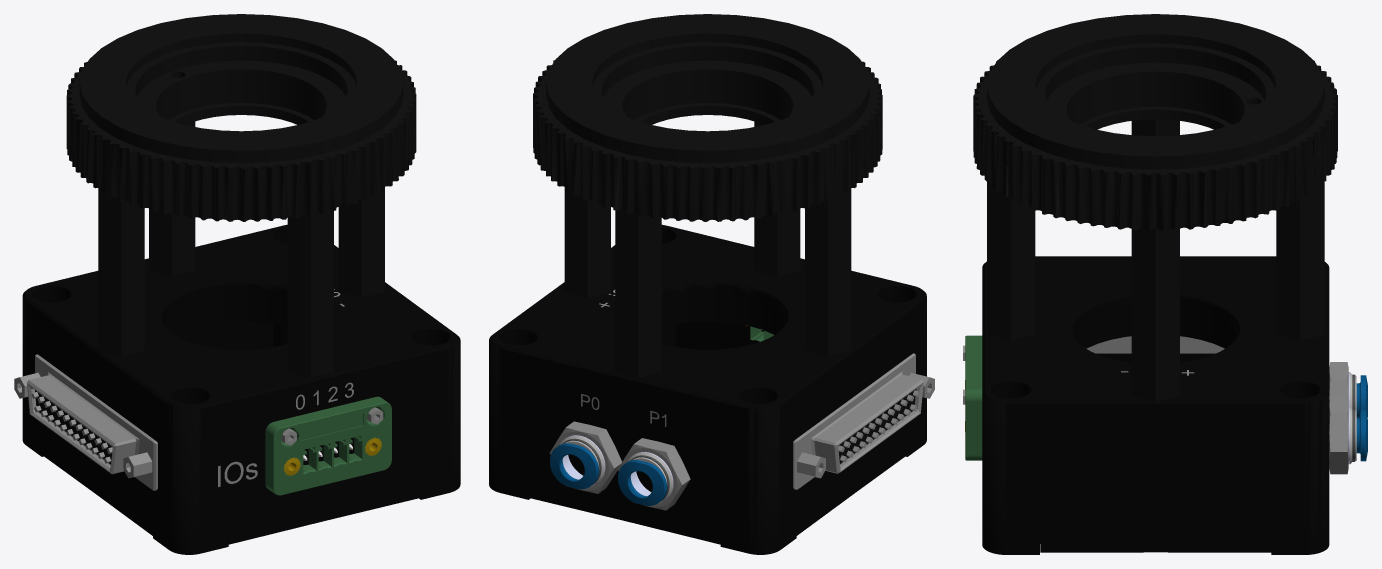
The picture shows the model from 3 angles, left to right: view 1: azimuth 30°, elevation 25°; view 2: azimuth 150°, elevation 25°; view 3: azimuth 270°, elevation 25°; orthographic projection. The views are drawn at different scales.
Visible parts, largest first — view 1: thrust_bearing_50mm_70mm_3mm v3:1, Cube, 15CDGV-3.81-04P-14-00AH v1:1.002; view 2: thrust_bearing_50mm_70mm_3mm v3:1, Cube, 153377_QSMS_6____part_:1.007; view 3: thrust_bearing_50mm_70mm_3mm v3:1, Cube, 15CDGV-3.81-04P-14-00AH v1:1.002, 153377_QSMS_6____part_:1.007.
Boxes of the visible parts, left/top/right/bottom form: thrust_bearing_50mm_70mm_3mm v3:1: left=22, top=14, right=460, bottom=554; Cube: left=14, top=289, right=383, bottom=490; 15CDGV-3.81-04P-14-00AH v1:1.002: left=265, top=396, right=391, bottom=495; thrust_bearing_50mm_70mm_3mm v3:1: left=489, top=14, right=926, bottom=554; Cube: left=549, top=290, right=934, bottom=510; 153377_QSMS_6____part_:1.007: left=550, top=443, right=667, bottom=505; thrust_bearing_50mm_70mm_3mm v3:1: left=973, top=14, right=1355, bottom=554; Cube: left=963, top=336, right=1356, bottom=474; 15CDGV-3.81-04P-14-00AH v1:1.002: left=965, top=335, right=982, bottom=460; 153377_QSMS_6____part_:1.007: left=1356, top=375, right=1367, bottom=461.
Bounding box in the file's own units: 0.0808 × 0.084 × 0.0918.
